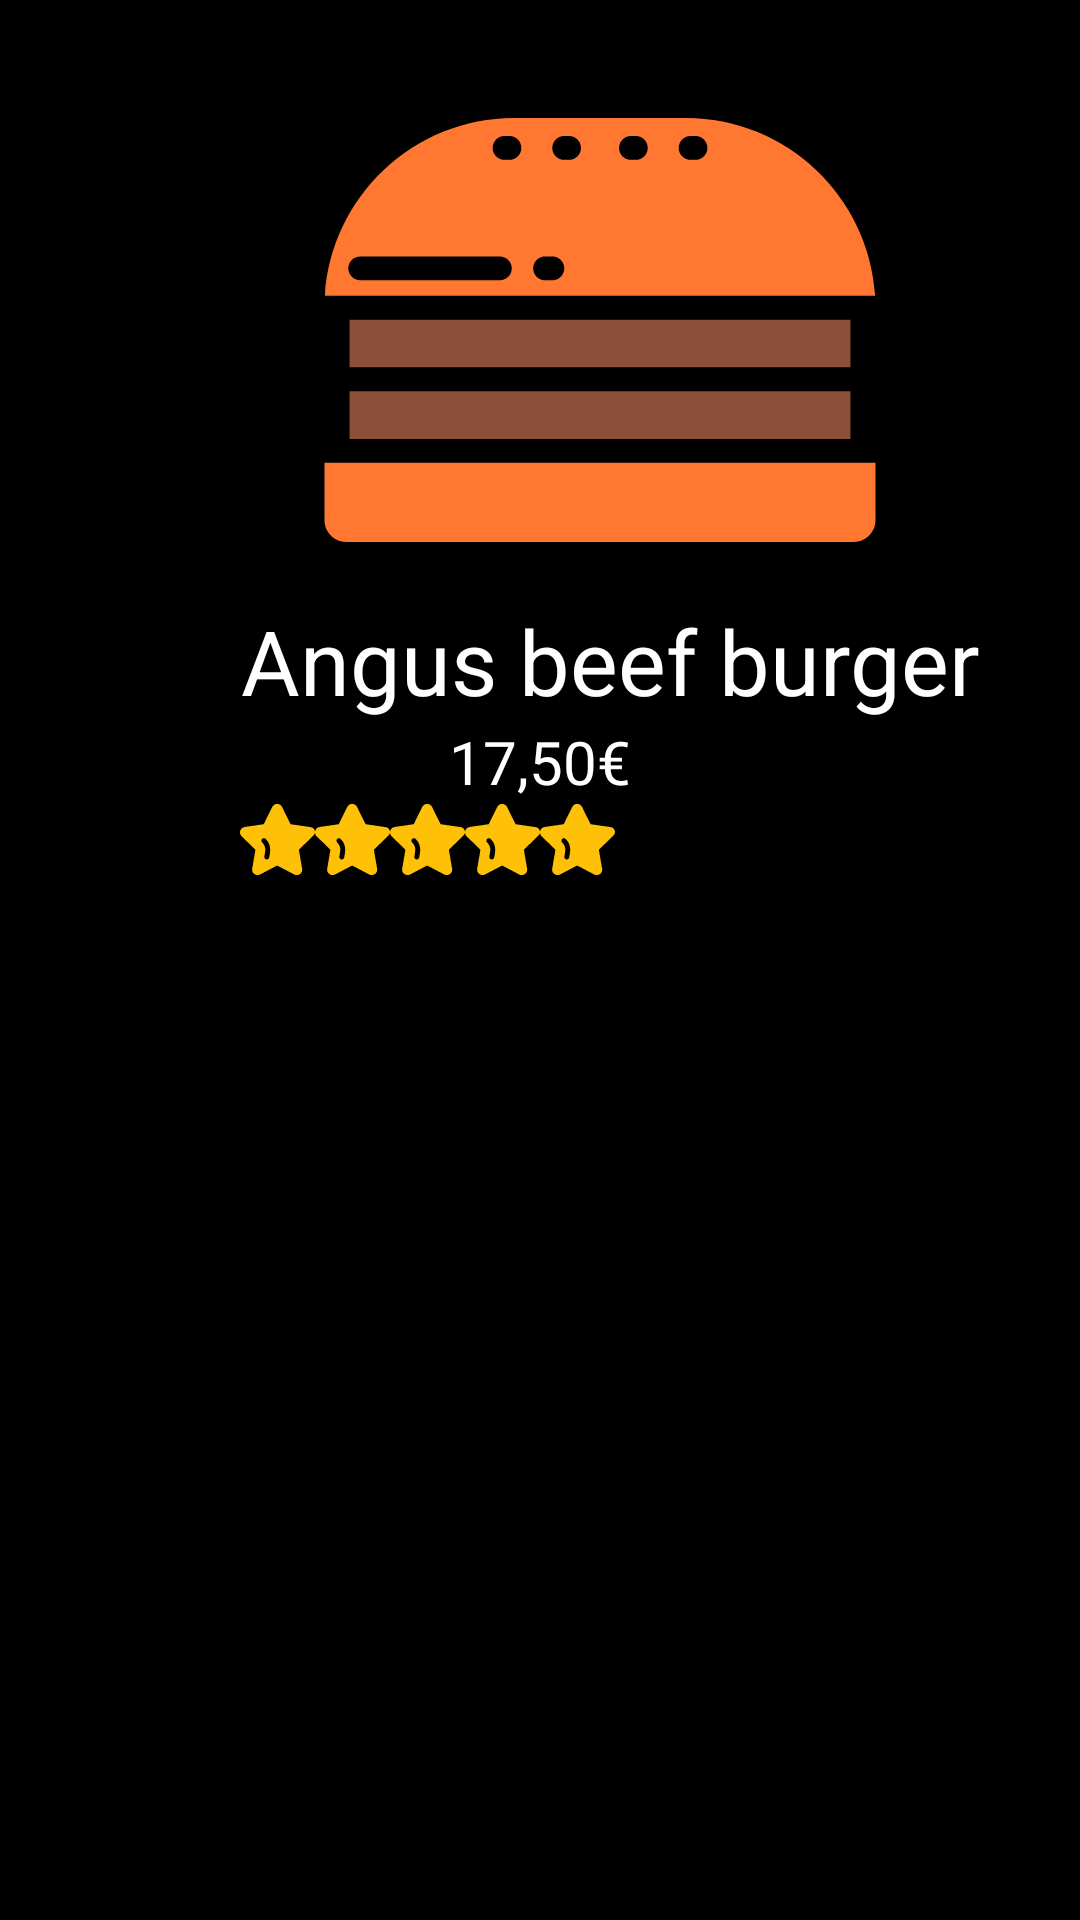

Screen size 1080px×1920px. Icon name, then its box in pixels as (x1, y1, x2, y2):
star: (240, 804, 315, 875), (315, 804, 390, 875), (390, 804, 465, 875), (465, 804, 540, 875), (540, 804, 615, 875)
